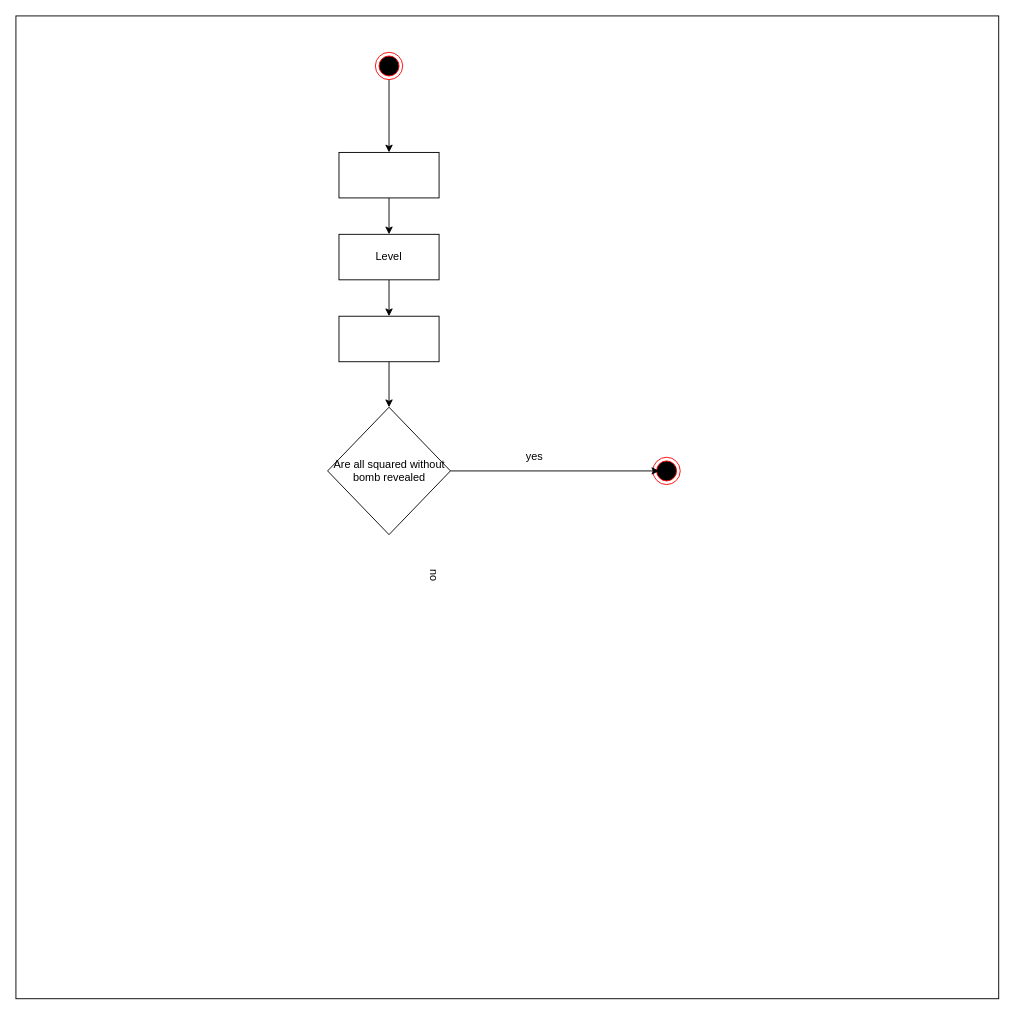
The diagram is 1015 pixels wide and 1015 high, and some of its shapes have lost their labels. Each missing label, with the centre of its shape:
generate board: [388,338]
Start: [388,175]
